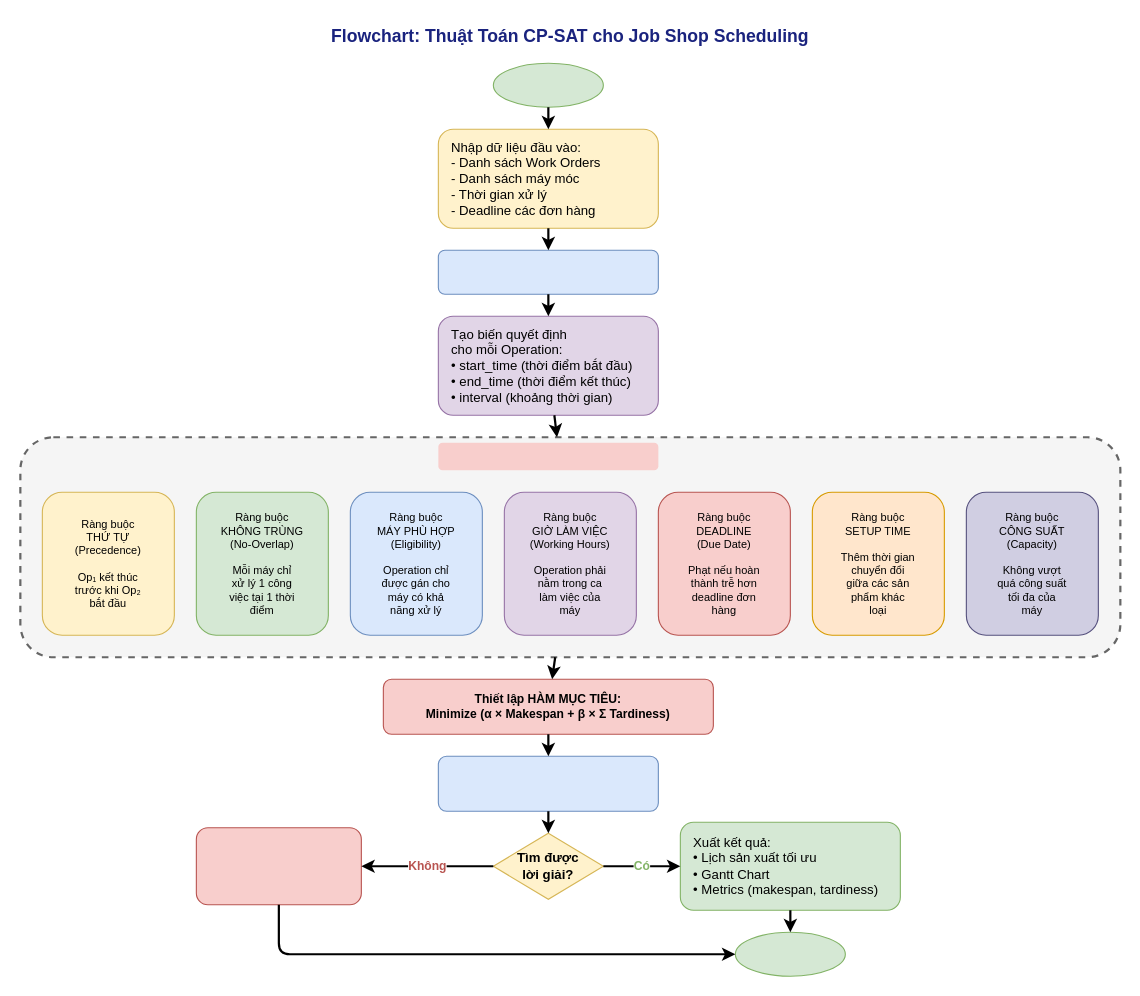
This 1140x996 diagram has some shape labels left out. The shapes that lost their labels are listed below. From the top down, each one's centre as x and y in pixels, then its label:
At pixel 547 84: "BẮT ĐẦU".
At pixel 547 271: "Khởi tạo mô hình CP-SAT".
At pixel 548 456: "THÊM CÁC RÀNG BUỘC".
At pixel 547 783: "Chạy CP-SAT Solver (max_time = 300 giây)".
At pixel 278 866: "Sử dụng FIFO (First In First Out) làm lịch dự phòng".
At pixel 789 953: "KẾT THÚC".
